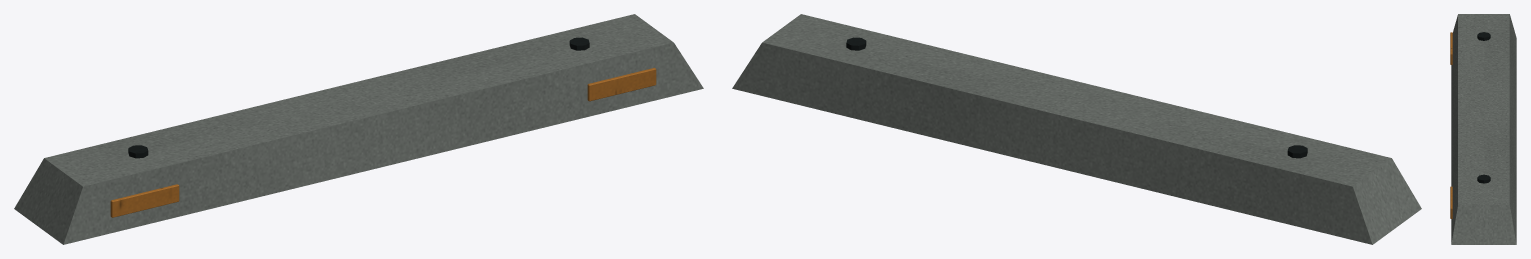
File: parking_wheel_stop.glb
3 views of the same model, side by side, from view 1: azimuth 30°, elevation 25°; view 2: azimuth 150°, elevation 25°; view 3: azimuth 270°, elevation 25° (orthographic). The views are drawn at different scales.
Parts seen in each view (by area): view 1: parking_wheel_stop; view 2: parking_wheel_stop; view 3: parking_wheel_stop.
Boxes of the visible parts, left/top/right/bottom form: parking_wheel_stop: left=14, top=14, right=703, bottom=244; parking_wheel_stop: left=732, top=14, right=1421, bottom=244; parking_wheel_stop: left=1450, top=14, right=1516, bottom=244.
Bounding box in the file's own units: 1.8 × 0.143 × 0.2435.
3 materials, 3 textured.
